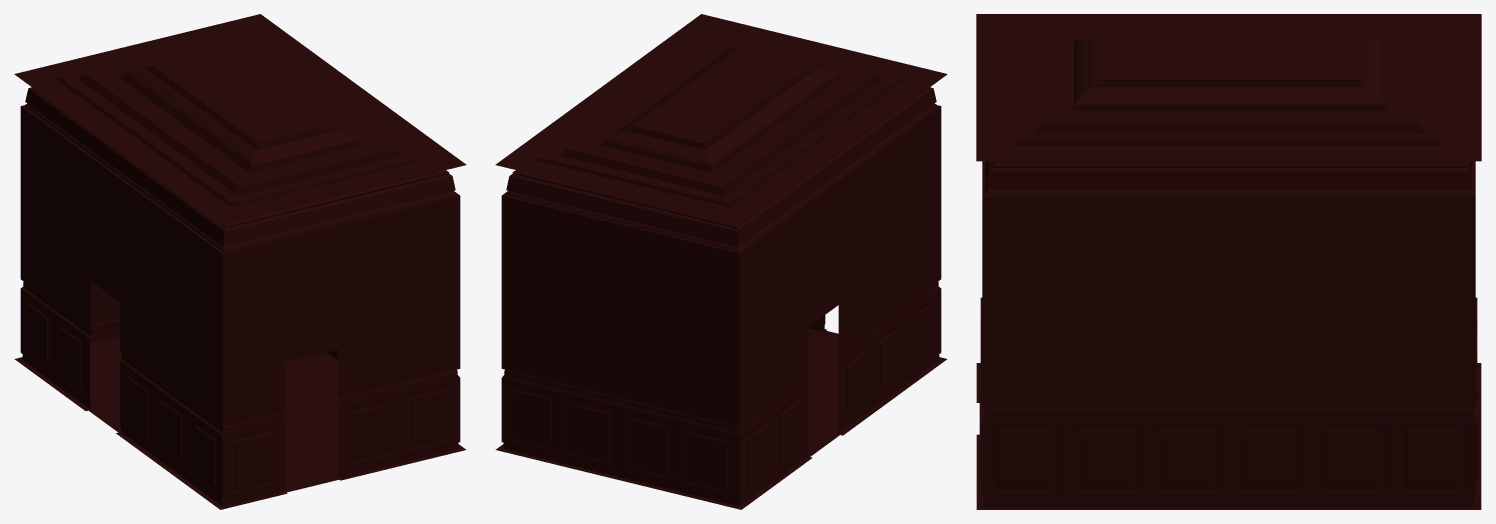
The model's file is 2door_3.FBX.
3 views of the same model, side by side, from view 1: azimuth 30°, elevation 25°; view 2: azimuth 150°, elevation 25°; view 3: azimuth 270°, elevation 25° (orthographic). The views are drawn at different scales.
Visible parts, largest first — view 1: wall, ceiling, floor; view 2: wall, ceiling, floor; view 3: wall, ceiling, floor.
Boxes of the visible parts, left/top/right/bottom form: wall: left=14, top=14, right=466, bottom=509; ceiling: left=16, top=24, right=464, bottom=224; floor: left=19, top=336, right=461, bottom=508; wall: left=495, top=14, right=947, bottom=509; ceiling: left=497, top=24, right=945, bottom=224; floor: left=500, top=328, right=942, bottom=508; wall: left=976, top=14, right=1481, bottom=509; ceiling: left=976, top=14, right=1481, bottom=161; floor: left=979, top=364, right=1478, bottom=508.
Bounding box in the file's own units: 160 × 232 × 192.
